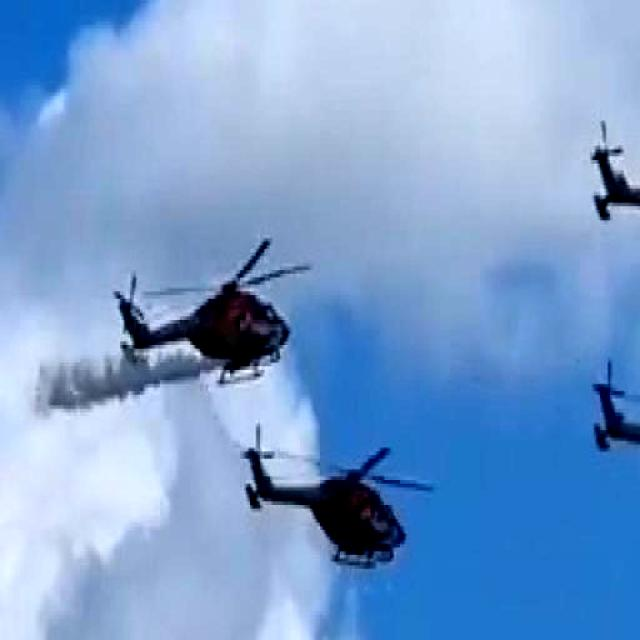drone: (229, 404, 436, 570), (95, 218, 299, 376), (558, 326, 640, 535), (568, 92, 640, 265)
